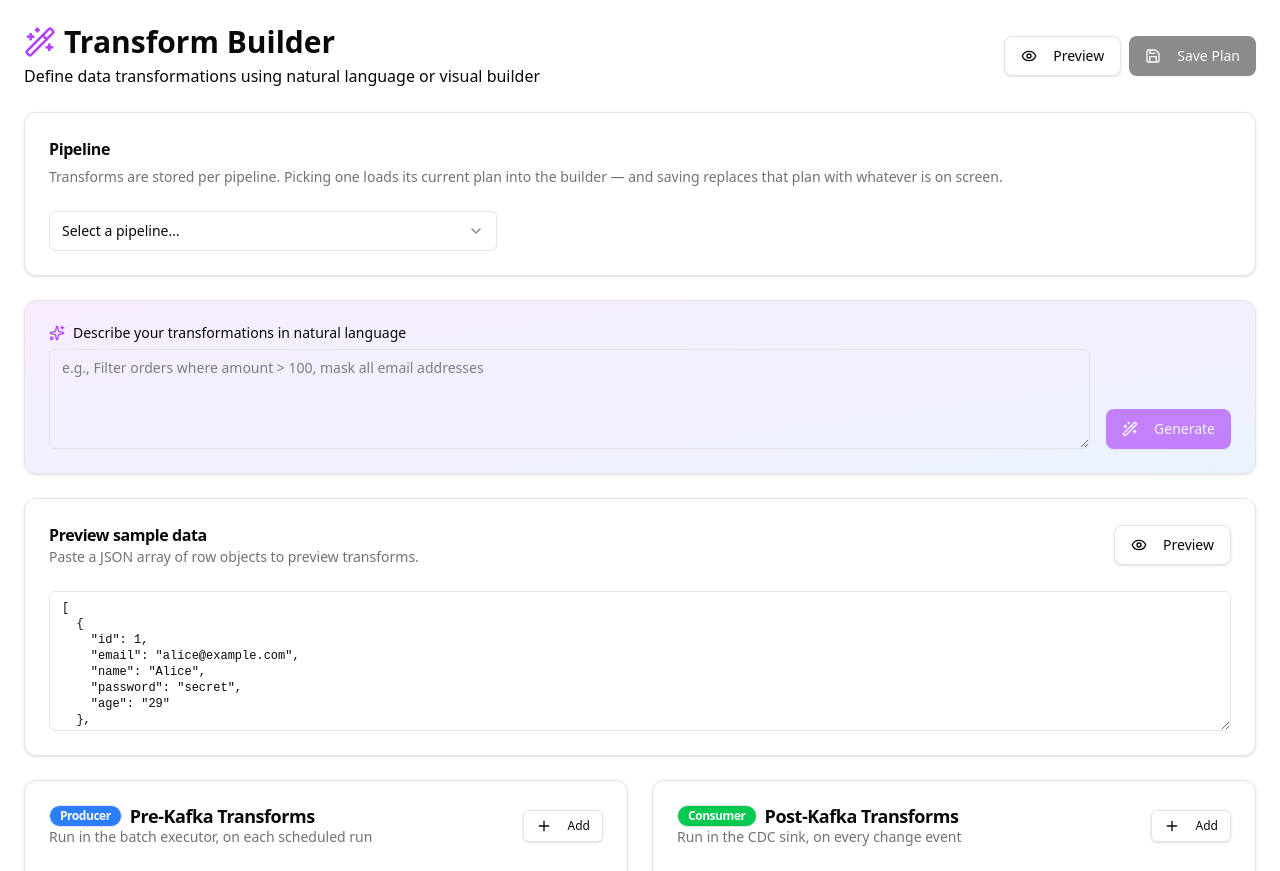
Test: Transform Builder — Generate and Preview › sends Preview through authFetch and shows what came back wrong
This screenshot has width=1280, height=871.
Click the button "Preview" in the row of "Transform Builder": (1063, 56) top-left (1004, 36), bottom-right (1121, 76)
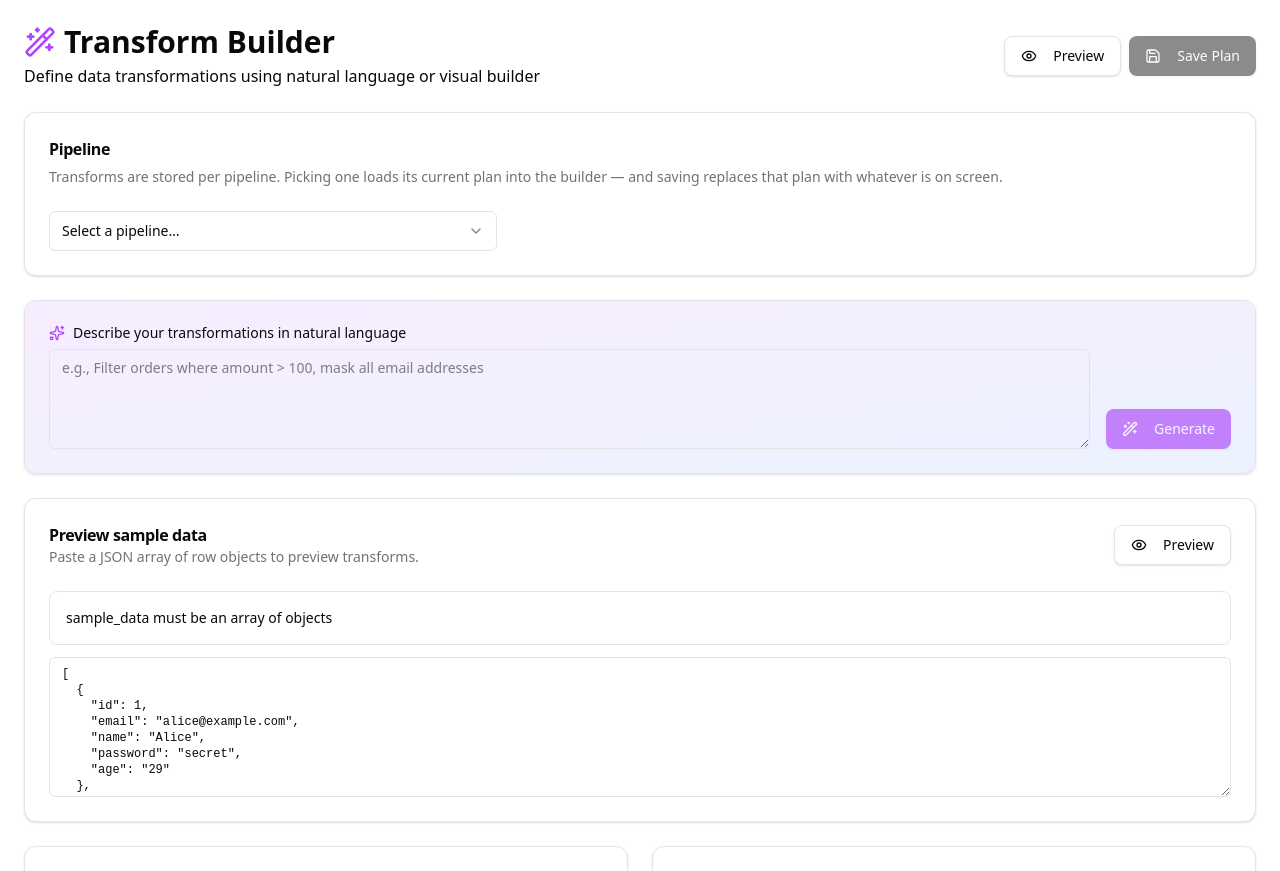
Expected: the text "sample_data must be an array of objects" is shown, top-left (66, 608), bottom-right (332, 627)
